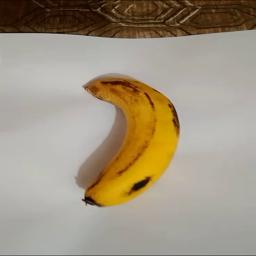Banana Semifresh: (75, 70, 181, 215)
